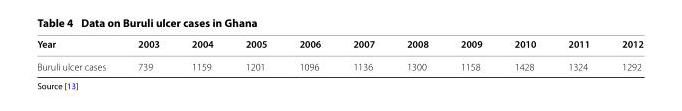table: (36, 37, 642, 71)
table column: (36, 37, 121, 71), (121, 37, 175, 71), (228, 37, 282, 71), (282, 37, 336, 71), (336, 37, 390, 71), (443, 37, 497, 71), (497, 37, 551, 71), (551, 37, 605, 71), (175, 37, 228, 71), (390, 37, 443, 71), (605, 37, 642, 71)
table column header: (36, 37, 642, 54)
table row: (36, 37, 642, 54), (36, 54, 642, 71)
